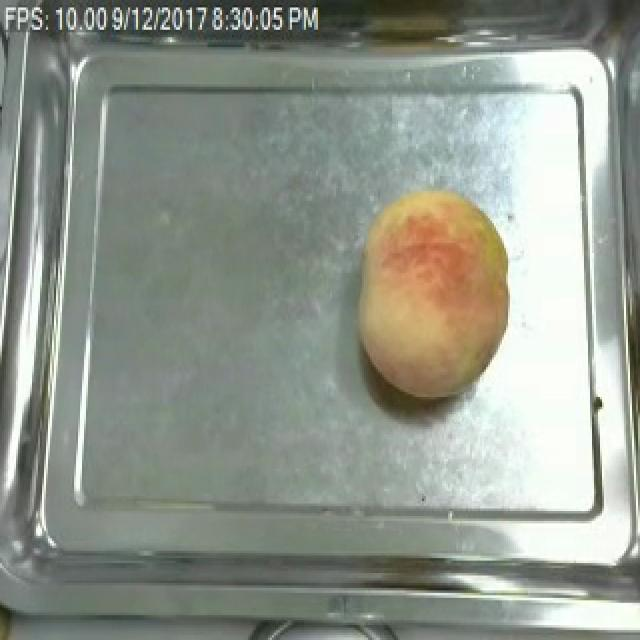Fruit: (346, 178, 518, 402)
